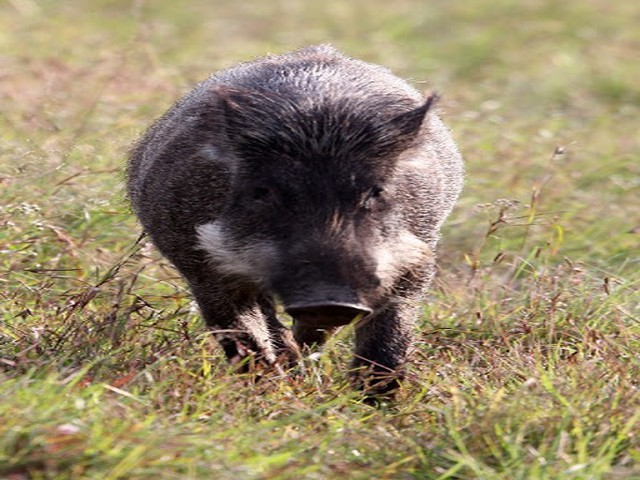Pig: (125, 29, 477, 413)
